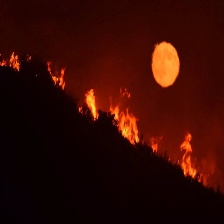fire: (107, 99, 141, 148), (170, 130, 200, 183), (74, 86, 100, 119), (46, 58, 67, 91), (1, 49, 23, 77)
